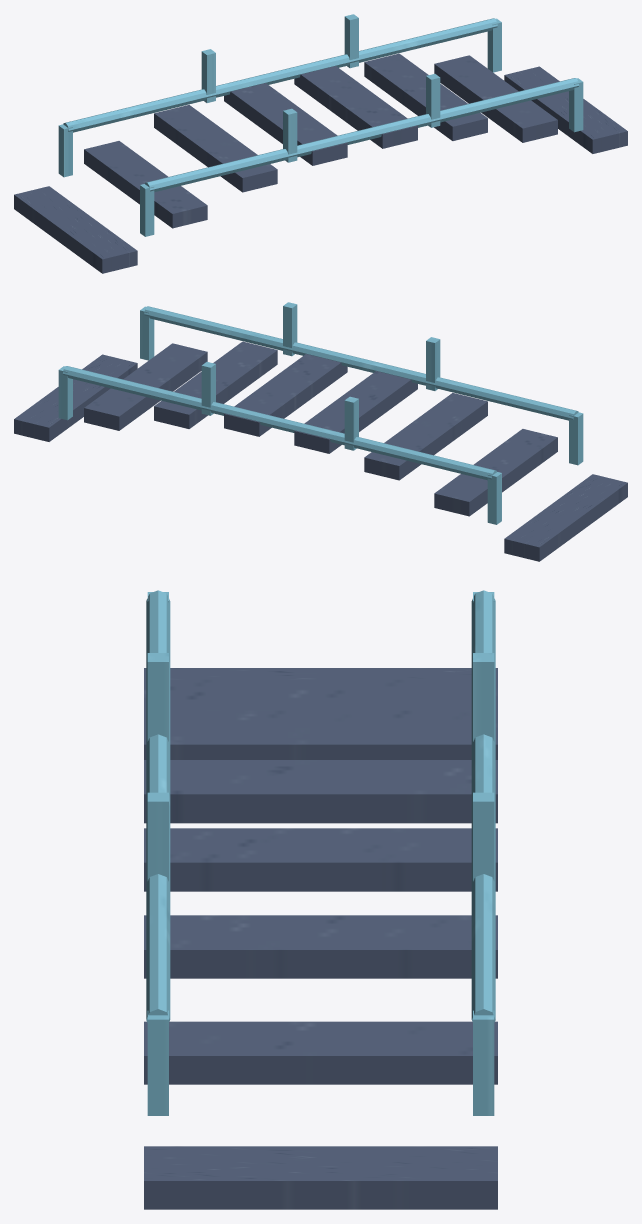
File: glacier_bridge_lod1.glb
3 views of the same model, one above another, from view 1: azimuth 30°, elevation 25°; view 2: azimuth 150°, elevation 25°; view 3: azimuth 270°, elevation 25° (orthographic). The views are drawn at different scales.
Parts seen in each view (by area): view 1: ice_12, ice_17, stone_0, stone_2, stone_6, stone_1, stone_4, stone_5, stone_3, stone_7, ice_8, ice_13 (+6 smaller); view 2: ice_17, ice_12, stone_0, stone_2, stone_6, stone_1, stone_4, stone_5, stone_3, stone_7, ice_13, ice_8 (+6 smaller); view 3: stone_7, stone_6, stone_4, stone_5, stone_3, stone_2, stone_1, ice_12, ice_17, stone_0, ice_11, ice_16 (+4 smaller).
Part boxes in pixels (<box>): ice_12: <box>145,78,578,192</box>; ice_17: <box>63,18,497,132</box>; stone_0: <box>14,186,137,273</box>; stone_2: <box>154,105,277,192</box>; stone_6: <box>434,55,557,142</box>; stone_1: <box>84,141,207,228</box>; stone_4: <box>294,66,417,148</box>; stone_5: <box>364,53,487,140</box>; stone_3: <box>224,83,347,165</box>; stone_7: <box>504,66,627,153</box>; ice_8: <box>58,124,72,177</box>; ice_13: <box>140,184,154,236</box>; ice_17: <box>63,366,496,480</box>; ice_12: <box>144,306,578,420</box>; stone_0: <box>504,474,627,561</box>; stone_2: <box>364,393,487,480</box>; stone_6: <box>84,343,207,430</box>; stone_1: <box>434,429,557,516</box>; stone_4: <box>224,354,347,436</box>; stone_5: <box>154,341,277,428</box>; stone_3: <box>294,371,417,453</box>; stone_7: <box>14,354,137,441</box>; ice_13: <box>569,412,583,465</box>; ice_8: <box>487,472,501,524</box>; stone_7: <box>144,1146,497,1209</box>; stone_6: <box>144,1021,497,1084</box>; stone_4: <box>144,828,497,891</box>; stone_5: <box>144,915,497,978</box>; stone_3: <box>144,760,497,823</box>; stone_2: <box>144,710,497,759</box>; stone_1: <box>144,679,497,710</box>; ice_12: <box>146,590,170,1022</box>; ice_17: <box>471,590,495,1022</box>; stone_0: <box>144,668,497,679</box>; ice_11: <box>473,1010,494,1115</box>; ice_16: <box>147,1010,168,1115</box>.
Size of the model in its own units: 17.15 by 3.52 by 5.
2 materials, 2 textured.
